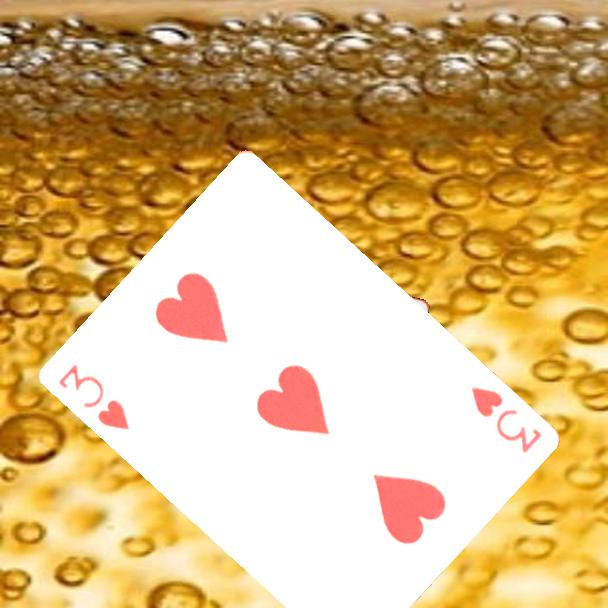h03: (466, 383, 544, 457), (54, 360, 132, 433)
